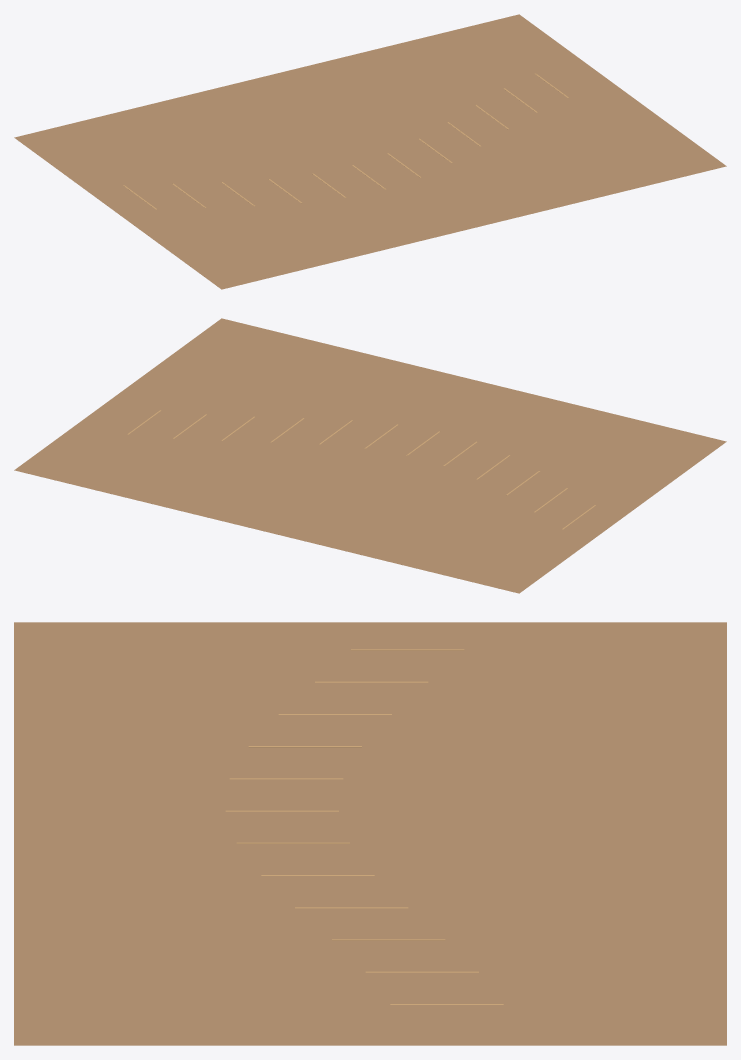
The model's file is 258_L119_L9_LayerReference.glb.
The picture shows the model from 3 angles, top to bottom: view 1: azimuth 30°, elevation 25°; view 2: azimuth 150°, elevation 25°; view 3: azimuth 270°, elevation 25°; orthographic projection. The views are drawn at different scales.
Visible parts, largest first — view 1: 0000__PSMAT__copper_dark; view 2: 0000__PSMAT__copper_dark; view 3: 0000__PSMAT__copper_dark.
Boxes of the visible parts, x1,y1,x2,y2 form: 0000__PSMAT__copper_dark: [14, 14, 726, 289]; 0000__PSMAT__copper_dark: [14, 318, 726, 593]; 0000__PSMAT__copper_dark: [14, 622, 726, 1045].
Bounding box in the file's own units: 0.486 × 0.000166 × 0.346.
